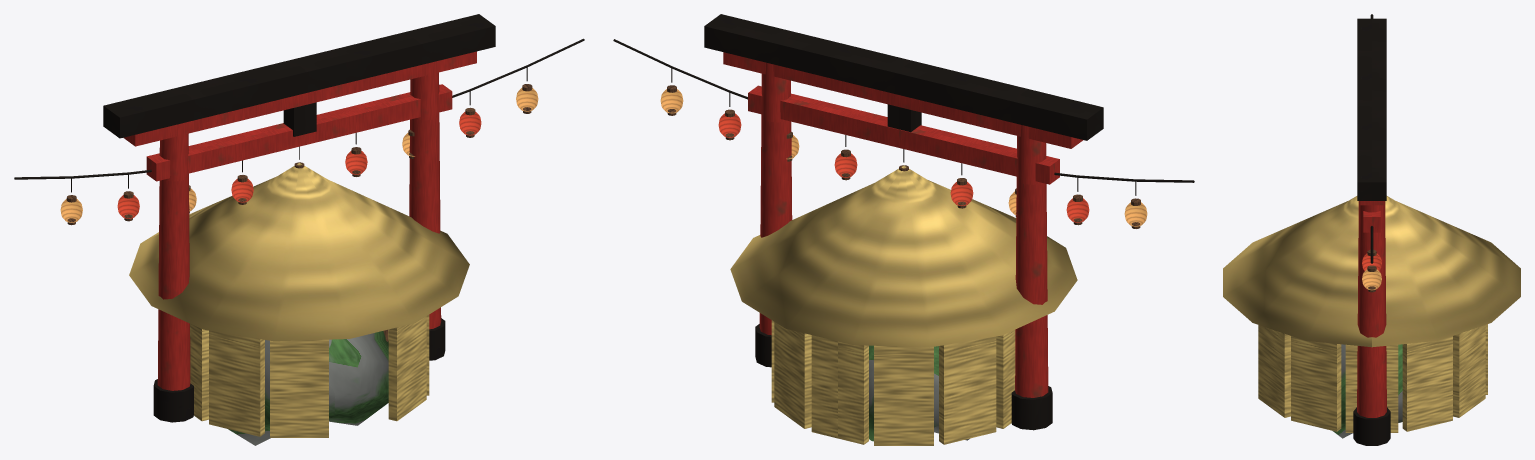
Rendered from props.gltf.
The picture shows the model from 3 angles, left to right: view 1: azimuth 30°, elevation 25°; view 2: azimuth 150°, elevation 25°; view 3: azimuth 270°, elevation 25°; orthographic projection. The views are drawn at different scales.
Visible parts, largest first — view 1: StrawHut, Torii, Rock3, LanternString; view 2: StrawHut, Torii, LanternString, Rock3; view 3: StrawHut, Torii, Rock3, LanternString.
Part boxes in pixels (box(x1,y1,x2,y2)): StrawHut: box(129, 163, 469, 437); Torii: box(103, 14, 495, 422); Rock3: box(228, 331, 388, 445); LanternString: box(14, 38, 584, 225); StrawHut: box(730, 165, 1077, 445); Torii: box(704, 14, 1103, 430); LanternString: box(613, 39, 1194, 228); Rock3: box(869, 345, 969, 441); StrawHut: box(1223, 196, 1520, 432); Torii: box(1353, 18, 1390, 445); Rock3: box(1333, 344, 1402, 438); LanternString: box(1362, 14, 1381, 292).
Bounding box in the file's own units: 10.01 × 6.05 × 5.07.
17 materials, 17 textured.
